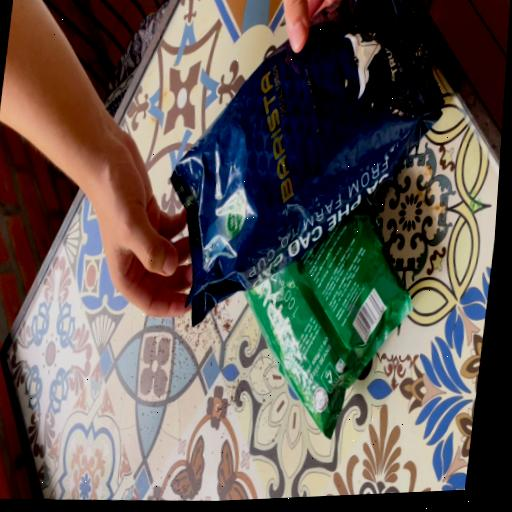cafe_hat: (171, 0, 444, 325)
cafe_xay: (246, 203, 412, 437)
